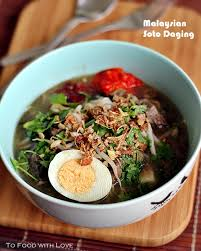soto: (4, 52, 201, 221)
